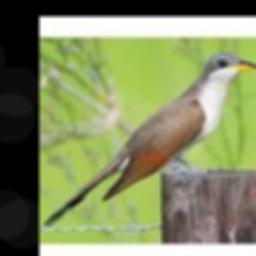Cuckoo: (45, 51, 256, 227)
